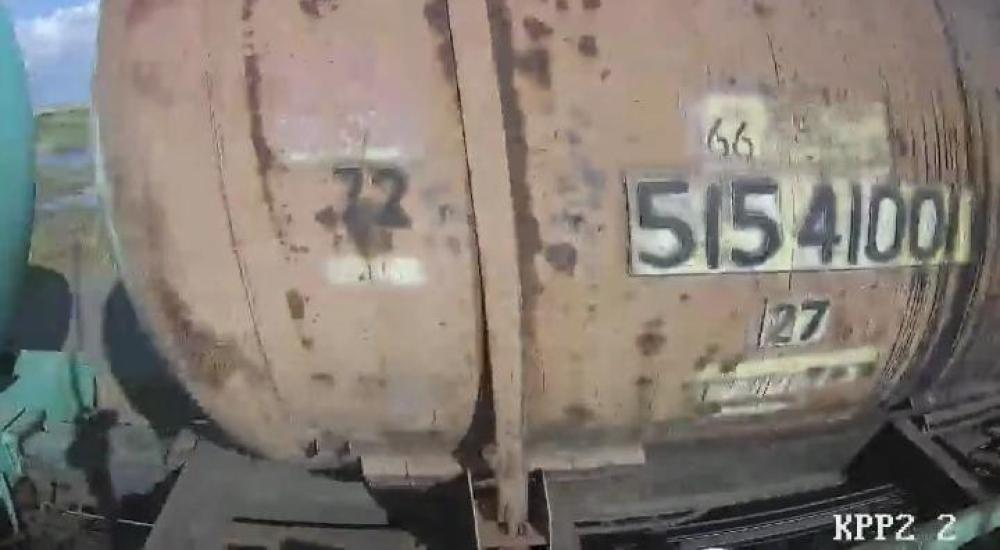Wagon-number: (631, 168, 968, 269)
